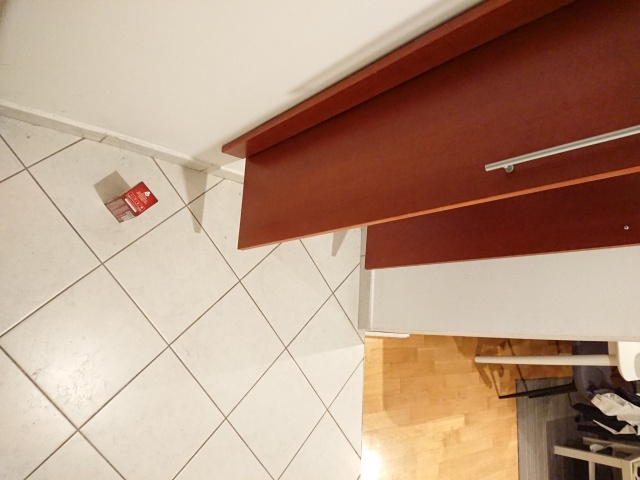Franck Apple Cinnamon Tea 60g: (101, 178, 161, 226)
